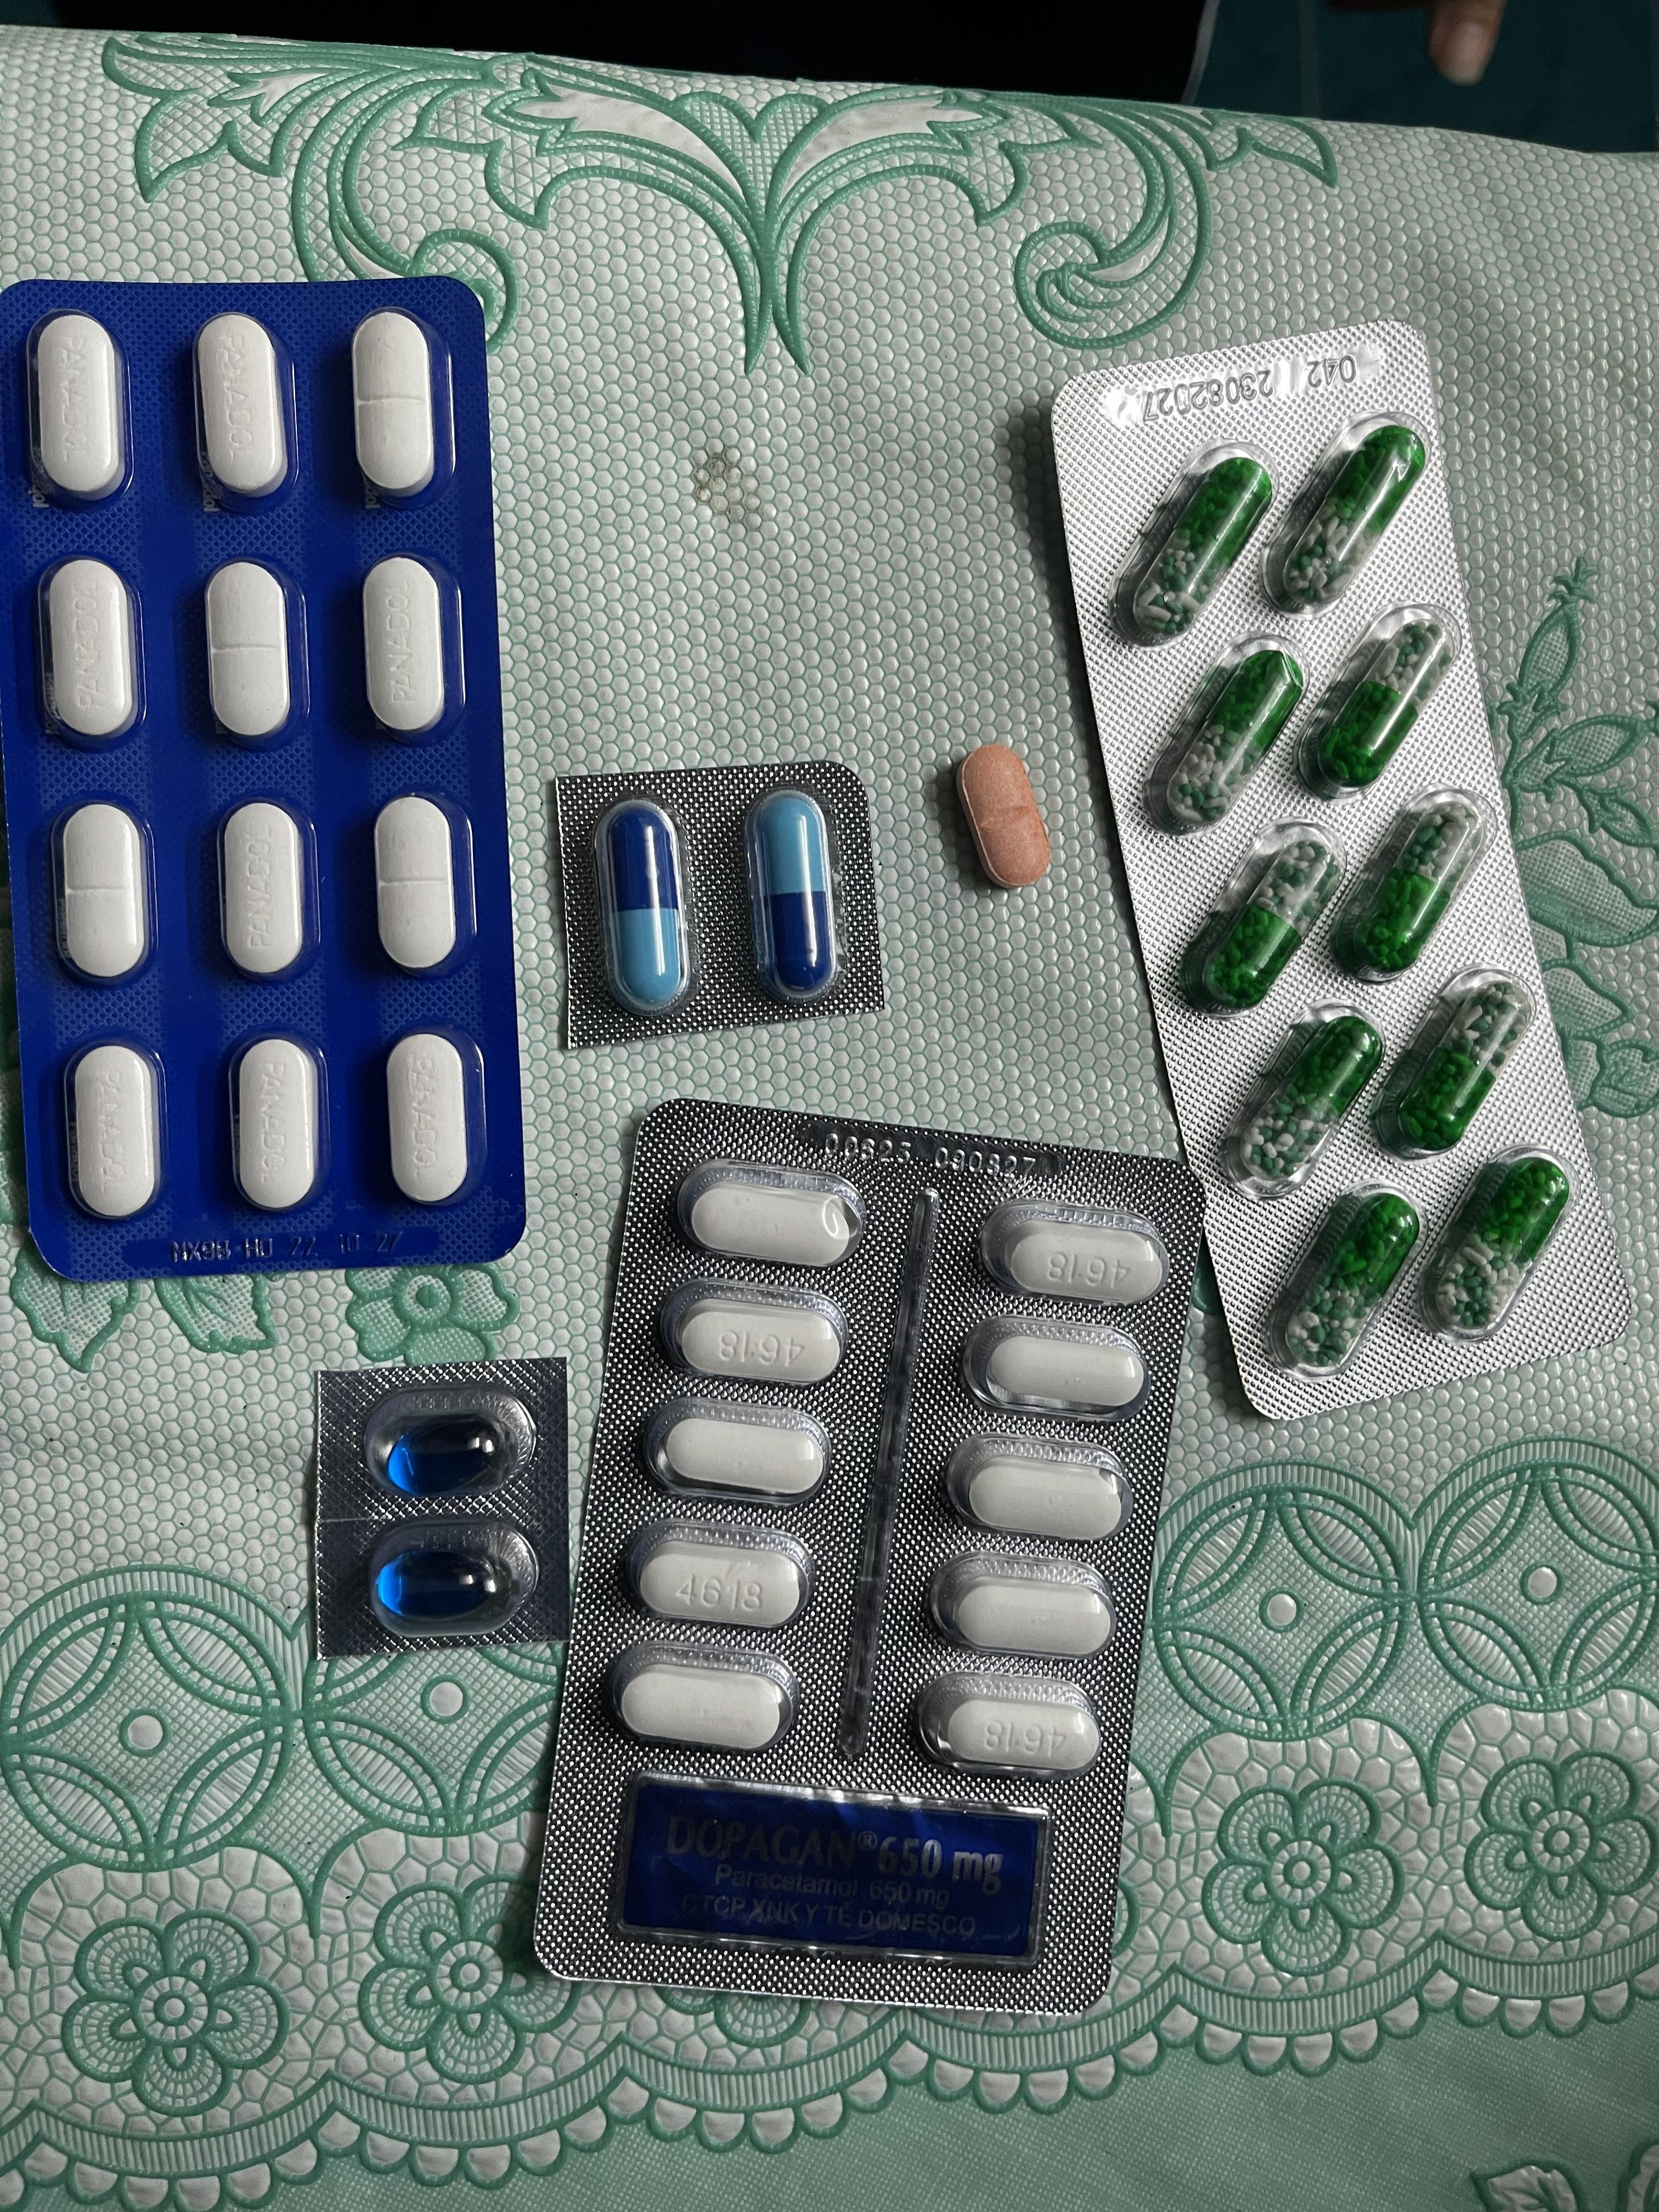Lincomyxin_500mg: (380, 1416, 505, 1494), (376, 1547, 500, 1622)
Loratadine_10mg: (957, 745, 1051, 890)
Paracetamol_350mg: (37, 557, 143, 751), (28, 310, 129, 510), (49, 798, 153, 988), (195, 312, 293, 510), (63, 1040, 164, 1224), (216, 798, 314, 982), (352, 310, 441, 509), (204, 561, 296, 747), (375, 794, 464, 977), (362, 557, 450, 742), (230, 1038, 321, 1212), (385, 1031, 476, 1204)
Paracetamol_500mg: (680, 1162, 868, 1264), (960, 1318, 1145, 1423), (945, 1437, 1131, 1538), (934, 1555, 1117, 1658), (631, 1524, 814, 1627), (664, 1282, 843, 1383), (979, 1202, 1159, 1303), (619, 1667, 788, 1754), (657, 1416, 824, 1500), (941, 1700, 1096, 1775)
Paracetamol_650mg: (1133, 456, 1269, 639), (1391, 984, 1530, 1155), (1168, 653, 1298, 831), (1347, 799, 1481, 972), (1243, 1015, 1382, 1179), (1283, 434, 1413, 608), (1204, 838, 1338, 1003), (1317, 624, 1450, 789), (1436, 1162, 1568, 1325), (1286, 1198, 1415, 1366)
pill: (594, 798, 695, 1019), (746, 787, 843, 1005)
